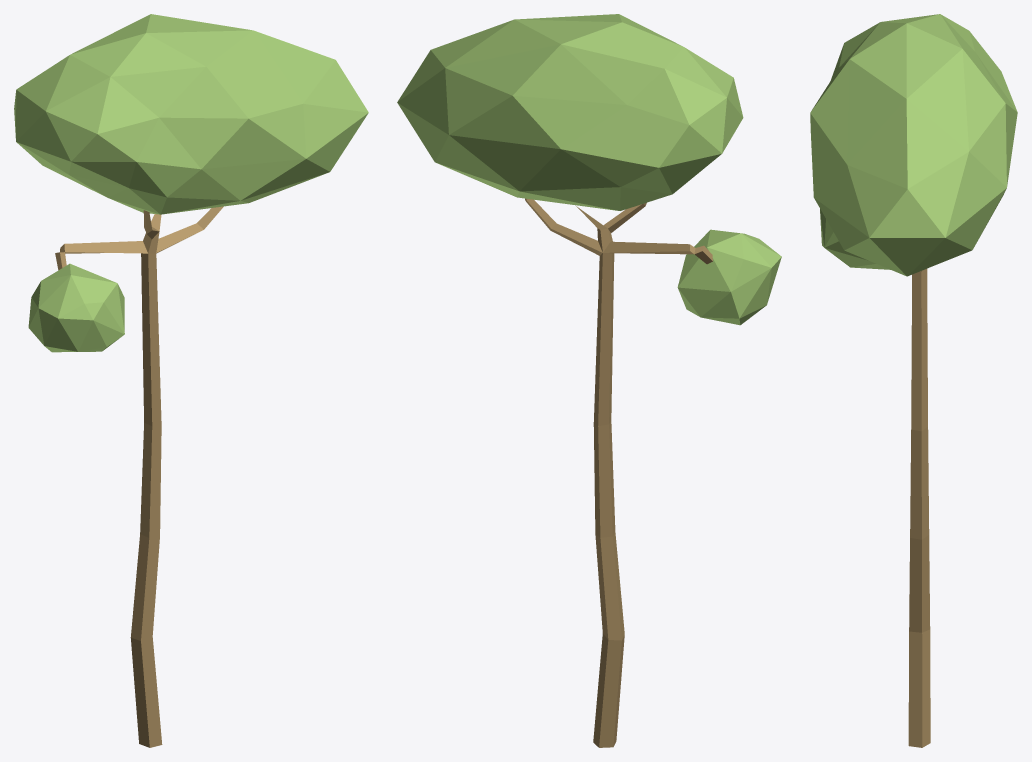
File: Acacia_Tree_crk_m_02.fbx
3 renders of one model, left to right at view 1: azimuth 30°, elevation 25°; view 2: azimuth 150°, elevation 25°; view 3: azimuth 270°, elevation 25°, orthographic.
Visible parts, largest first — view 1: Acacia_Tree_crk_m_02; view 2: Acacia_Tree_crk_m_02; view 3: Acacia_Tree_crk_m_02.
Boxes of the visible parts, box(x1,y1,x2,y2) form: Acacia_Tree_crk_m_02: box(14, 14, 368, 747); Acacia_Tree_crk_m_02: box(397, 14, 781, 747); Acacia_Tree_crk_m_02: box(810, 14, 1017, 747).
Bounding box in the file's own units: 498 × 1025 × 270.
